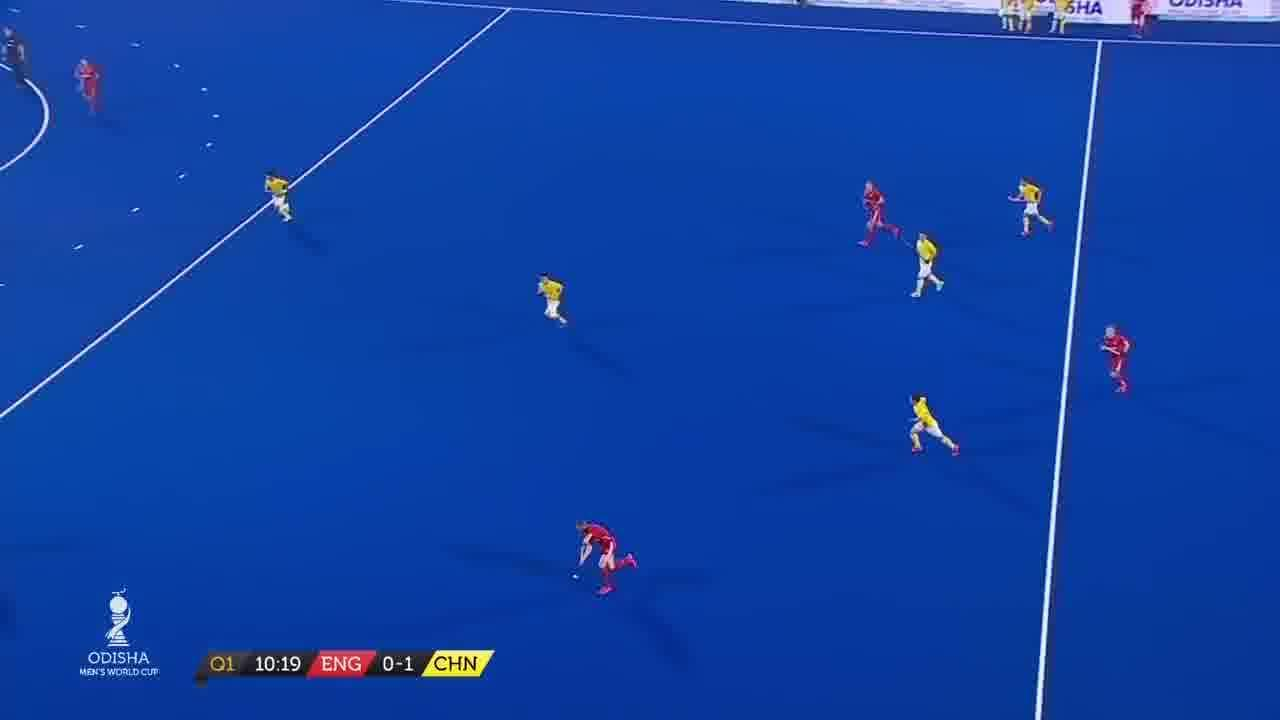ball: (570, 569, 583, 586)
